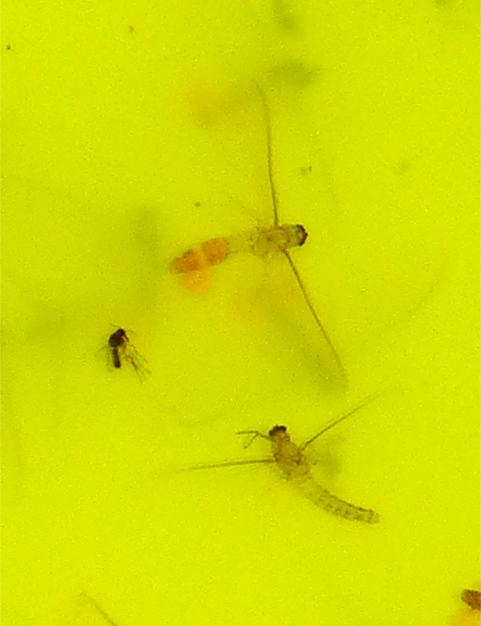Brachycera: (100, 324, 141, 372)
Ephemeroptera: (164, 100, 349, 382), (189, 400, 381, 526)
